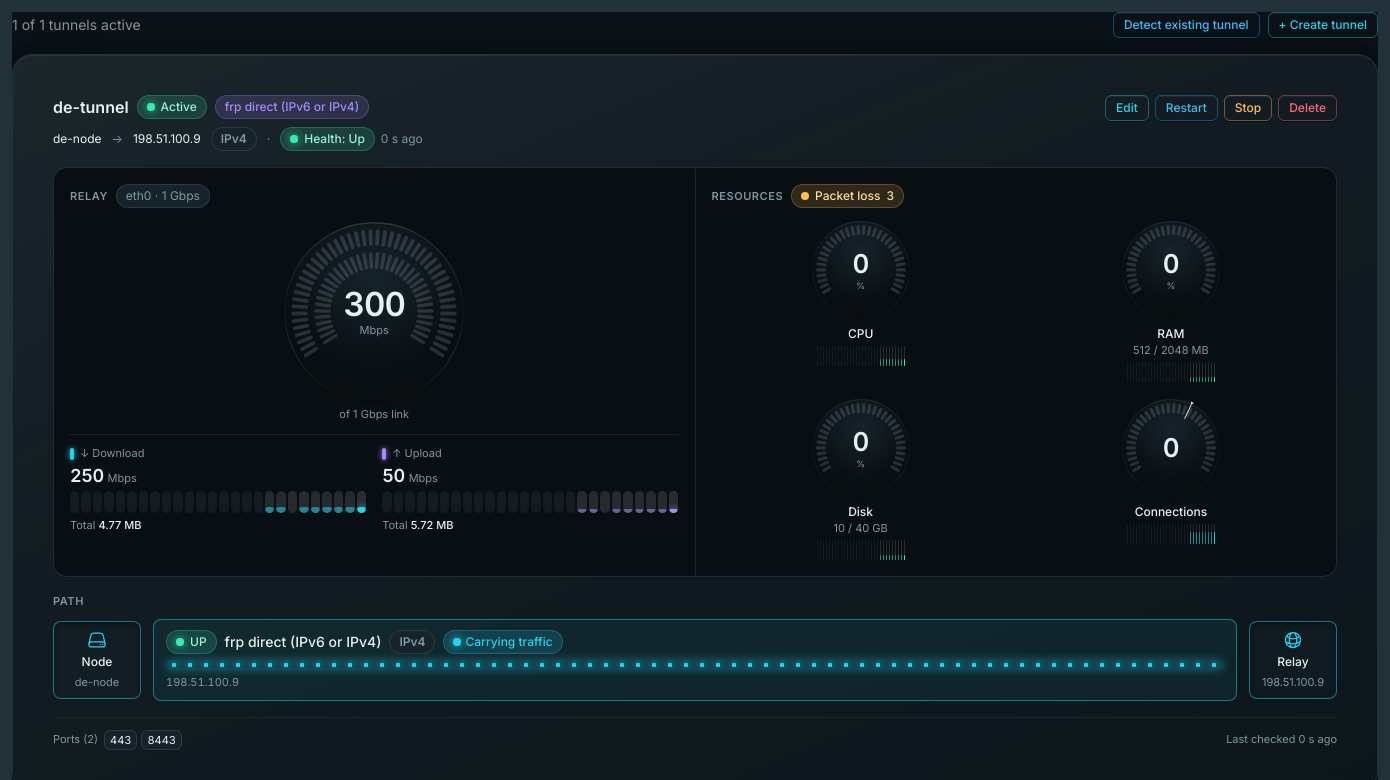
Test: tunnel card › asks before Stop, says what happens and how many connections it cuts, and only acts on the second click
This screenshot has width=1390, height=780.
Check: the text "de-tunnel" is shown, box [53,95,129,119]
Click the button "Stop" at (1248,108), box [1224,95,1272,121]
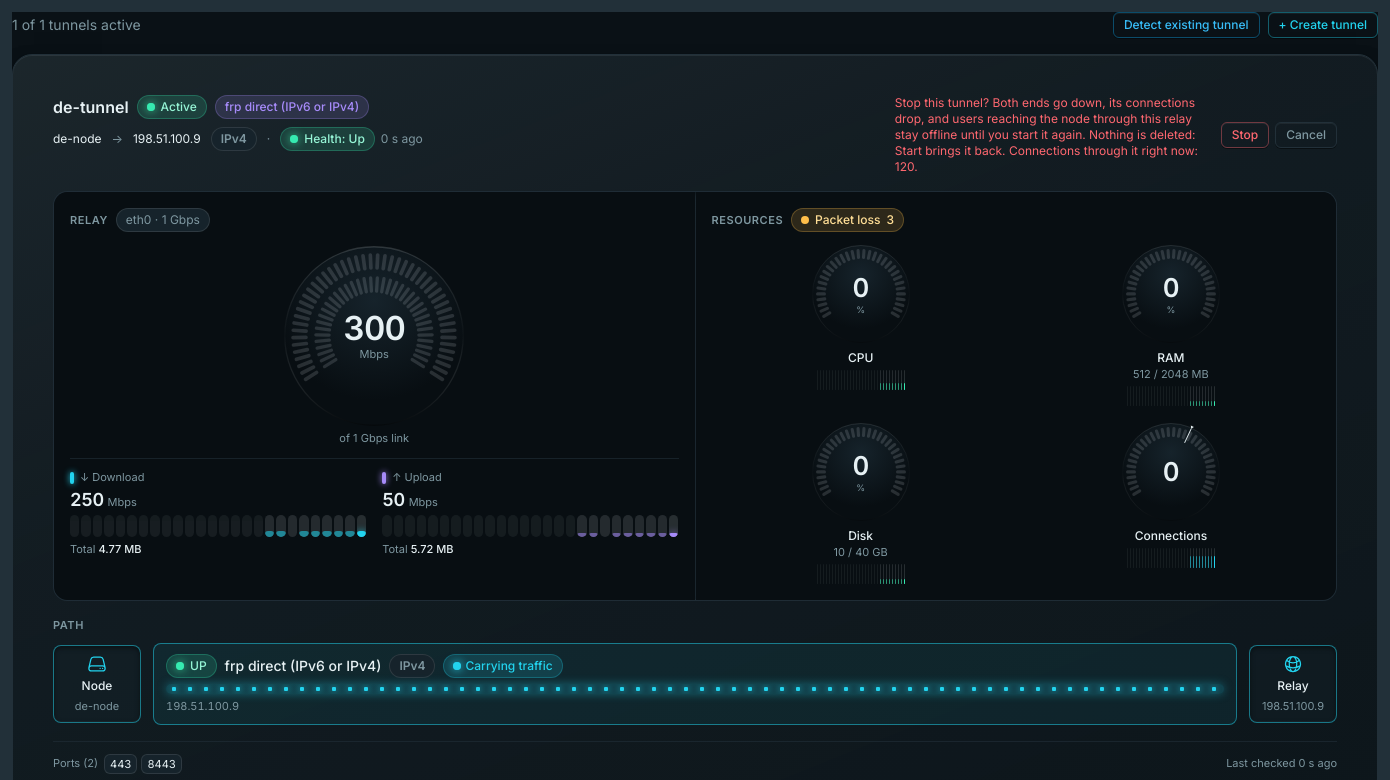
Check: the text "stay offline until you start it again" shows "Nothing is deleted", box [895,95,1198,174]
Click the button "Cancel" at (1306,135), box [1275,122,1337,148]
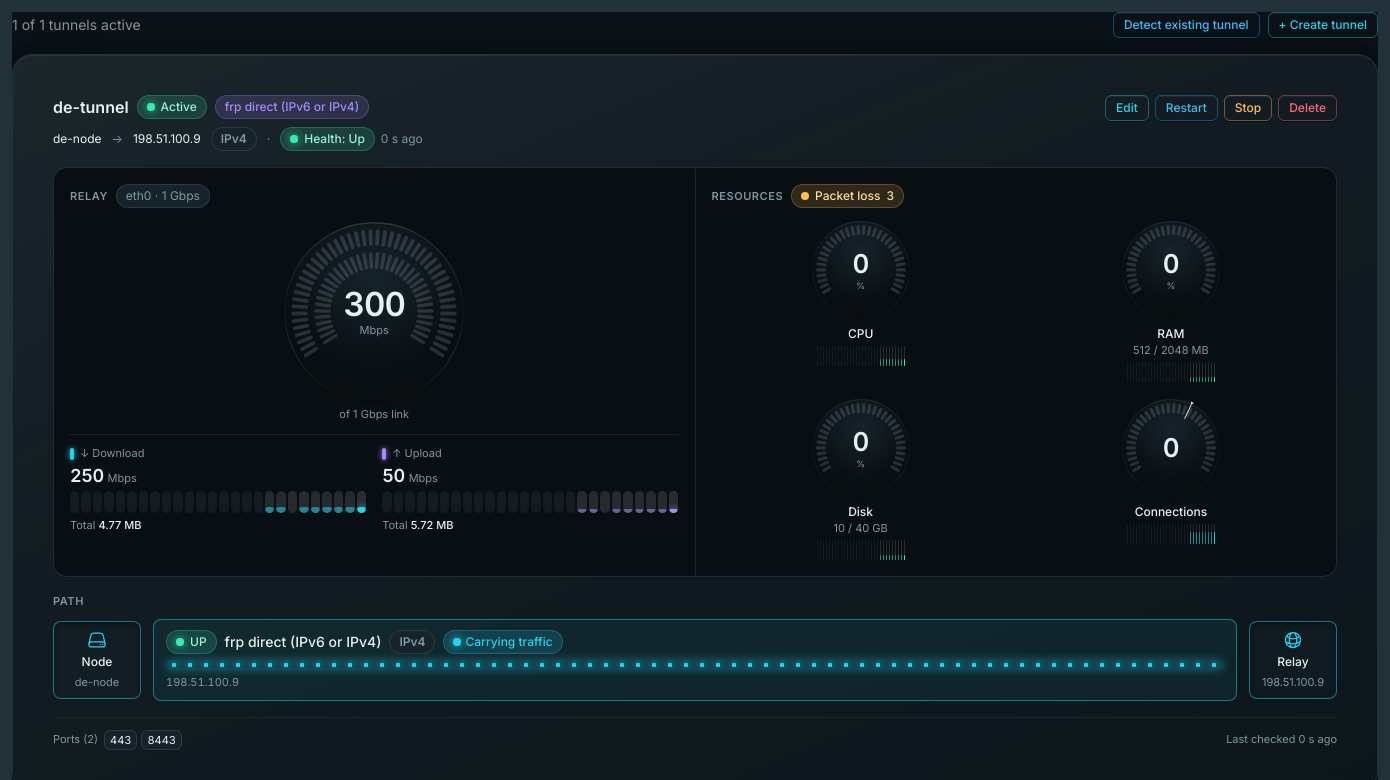
Check: the text "stay offline until you start it again" is gone
Click the button "Stop" at (1248,108), box [1224,95,1272,121]
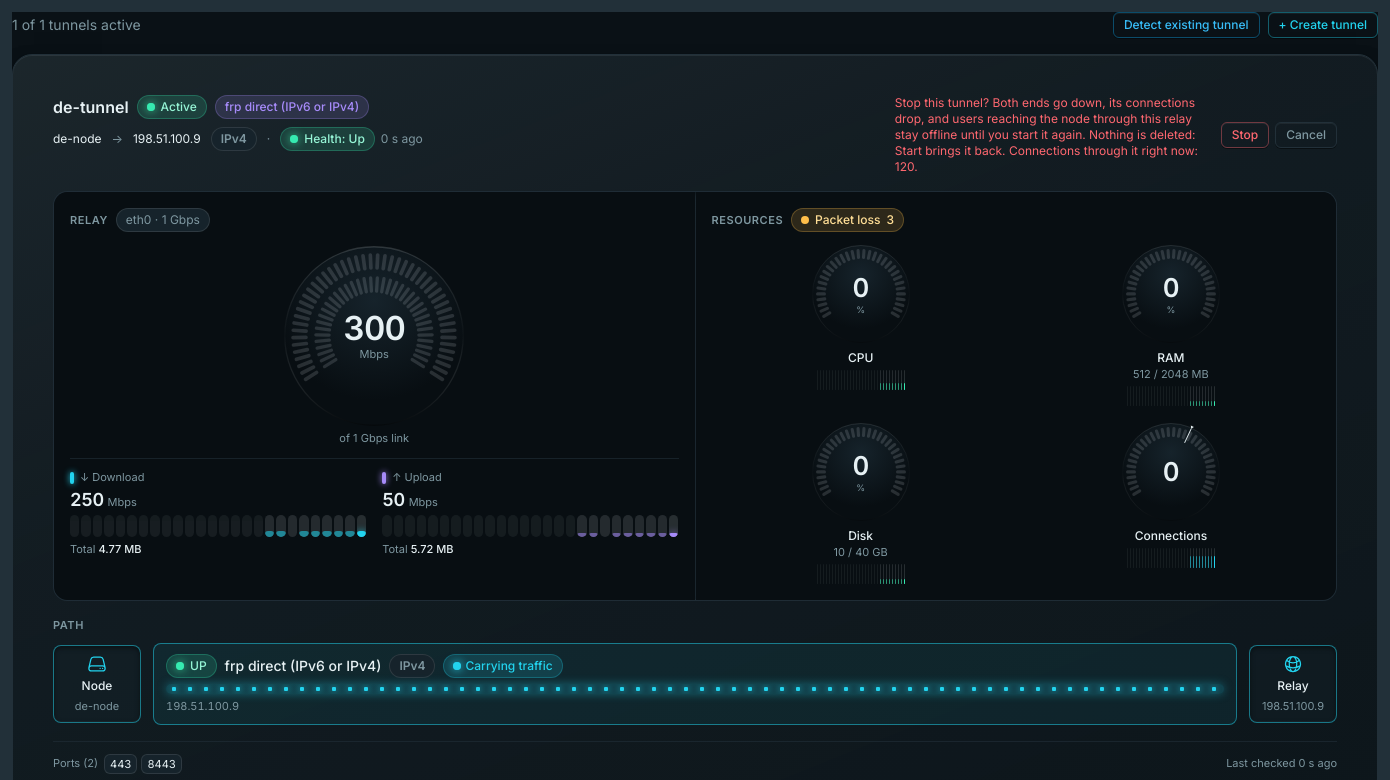
Click the button "Stop" at (1245,135), box [1221,122,1269,148]
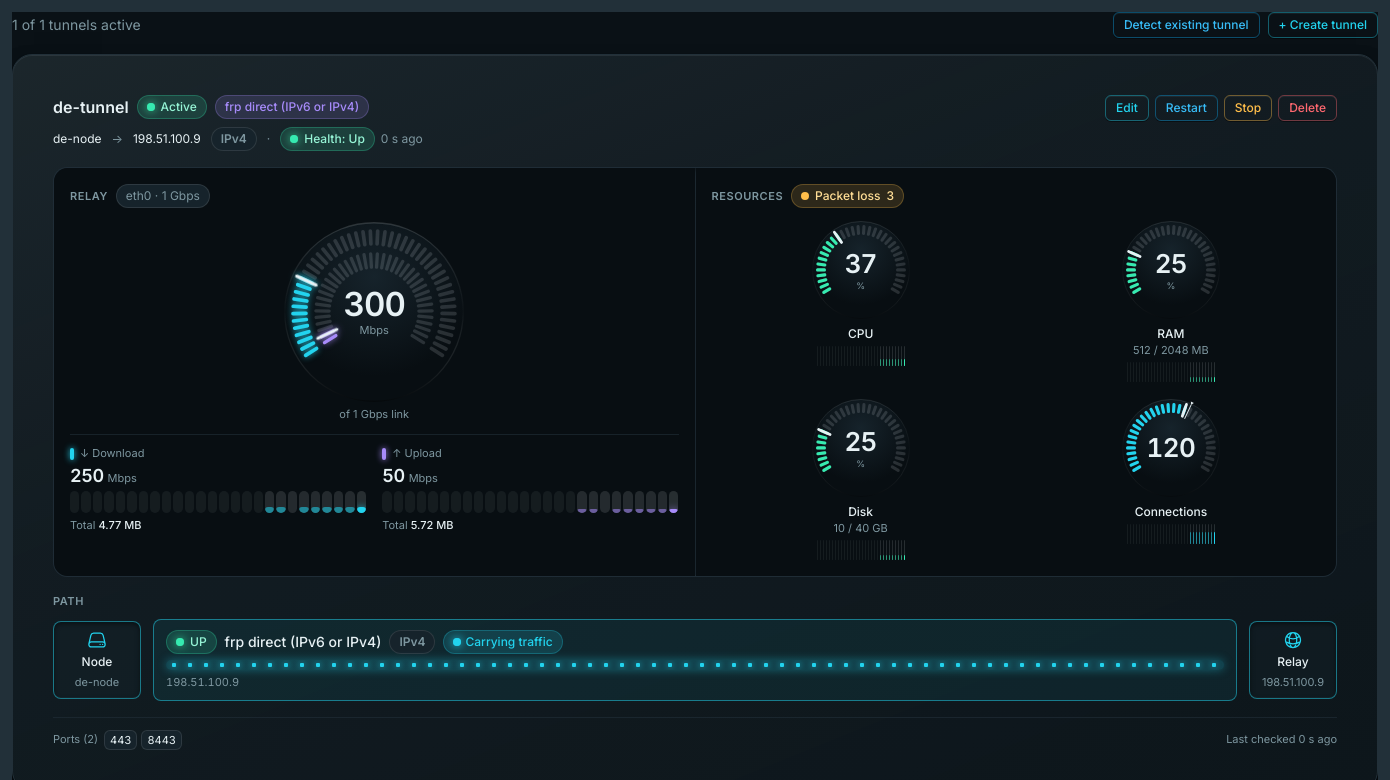
Check: the text "stay offline until you start it again" is gone
